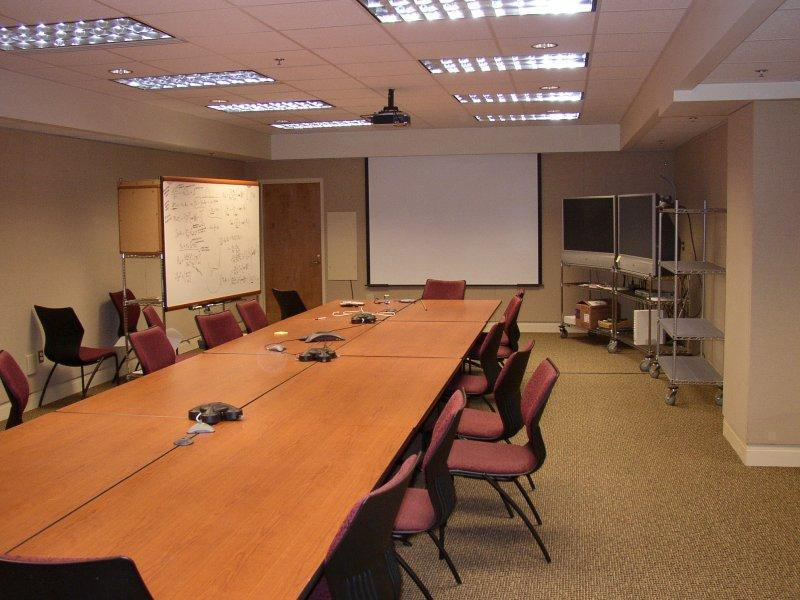Electrodomestico: (614, 191, 662, 286), (563, 187, 616, 271)
Puerta: (260, 183, 324, 307)
